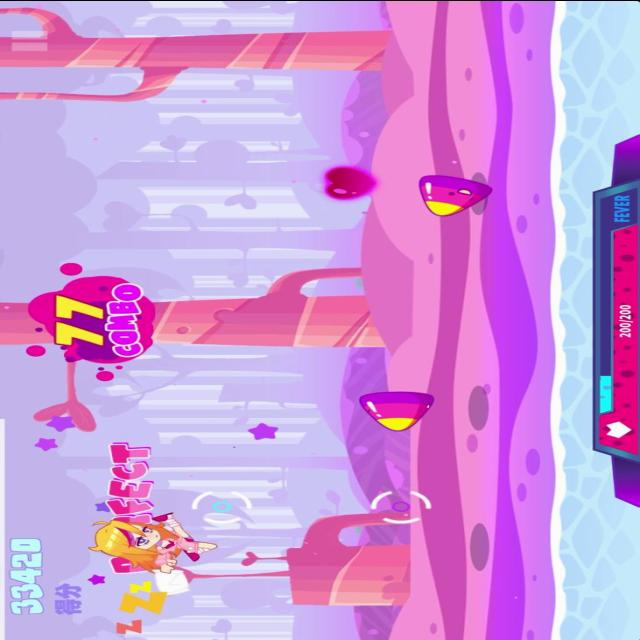jian: (409, 171, 497, 219), (352, 386, 439, 434)
